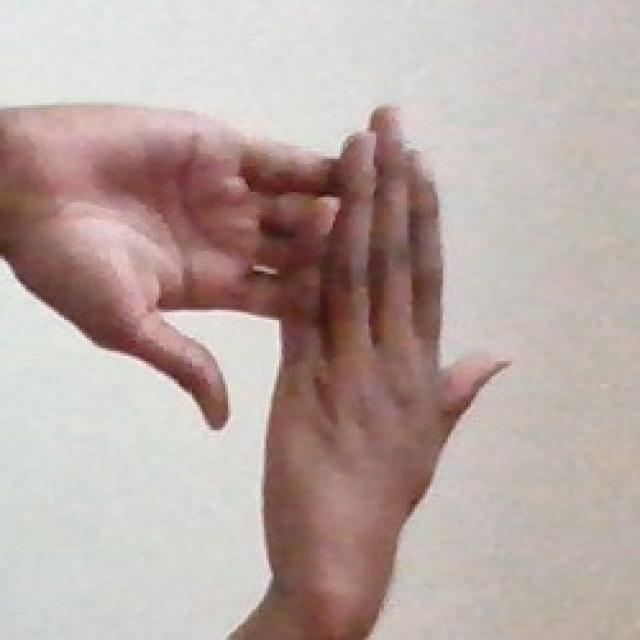Alphabet-H: (19, 85, 524, 586)
